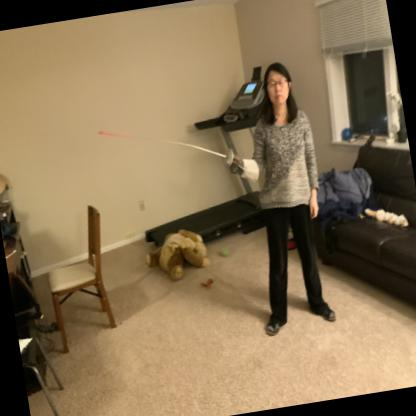foil-tip: (93, 124, 115, 145)
hand-and-foil: (80, 95, 264, 210)
